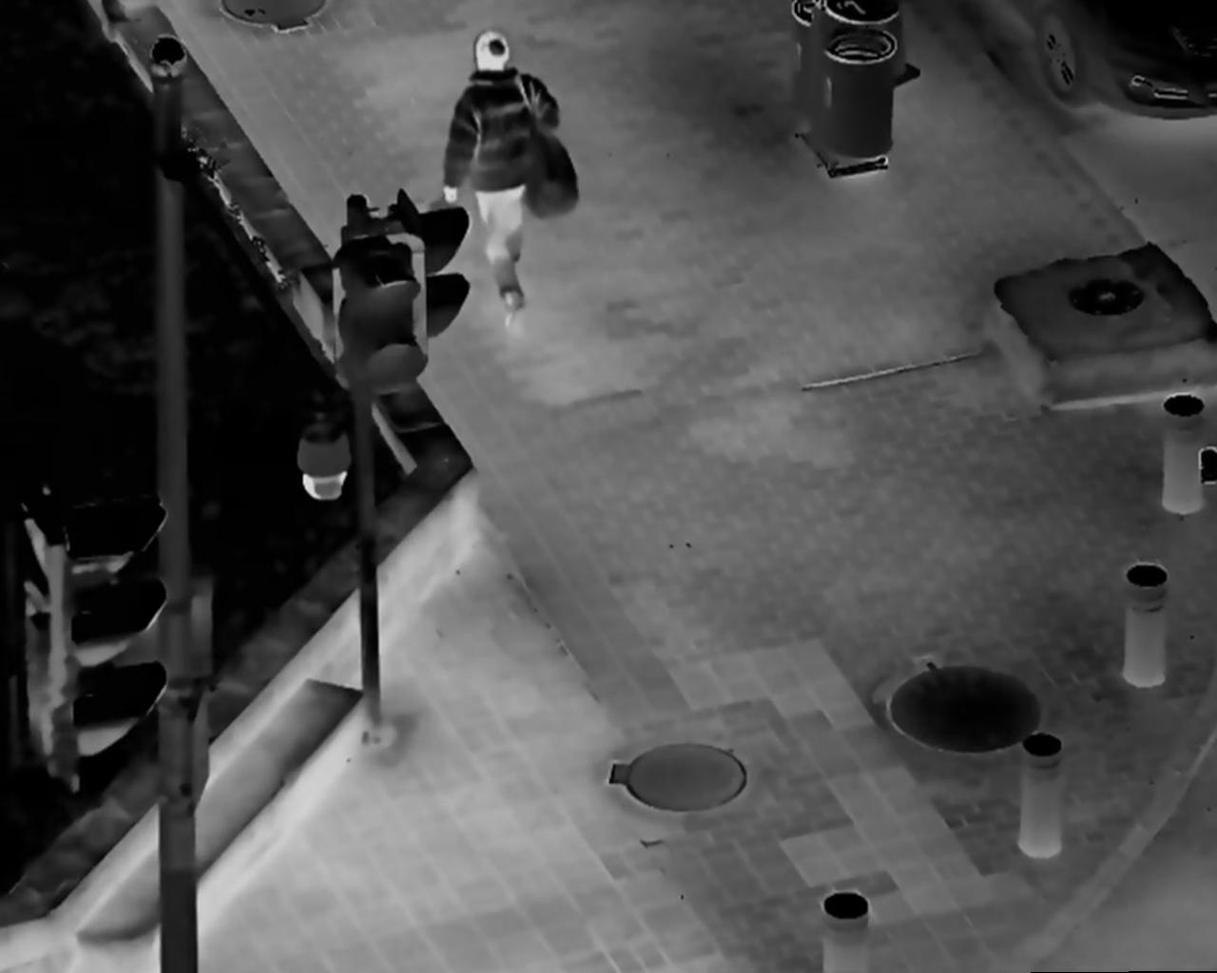person: (430, 20, 584, 341)
